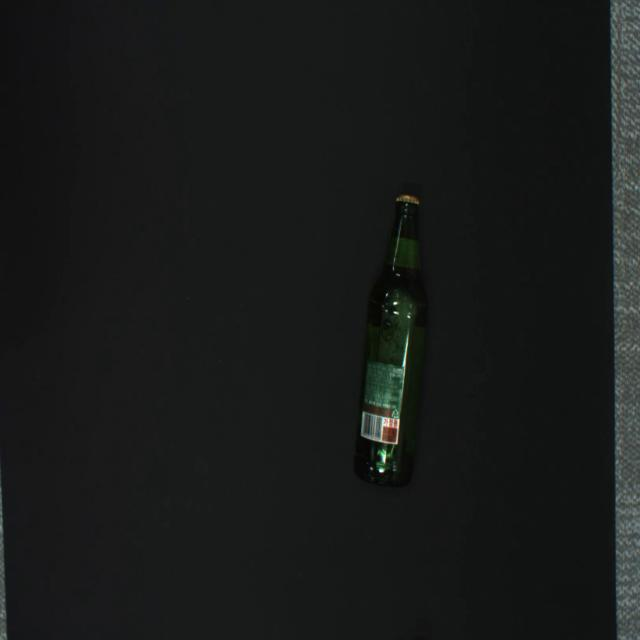beer-bottle: (354, 194, 429, 488)
